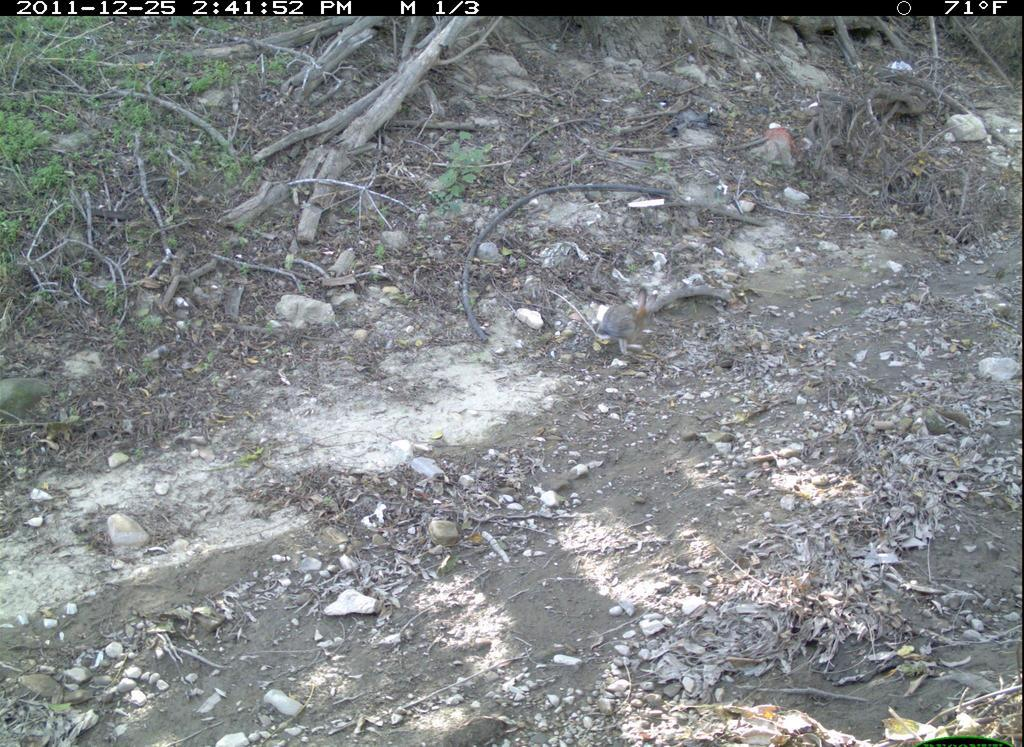rabbit: (583, 277, 669, 363)
